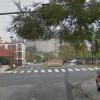Crosswalk: (7, 62, 100, 84)
